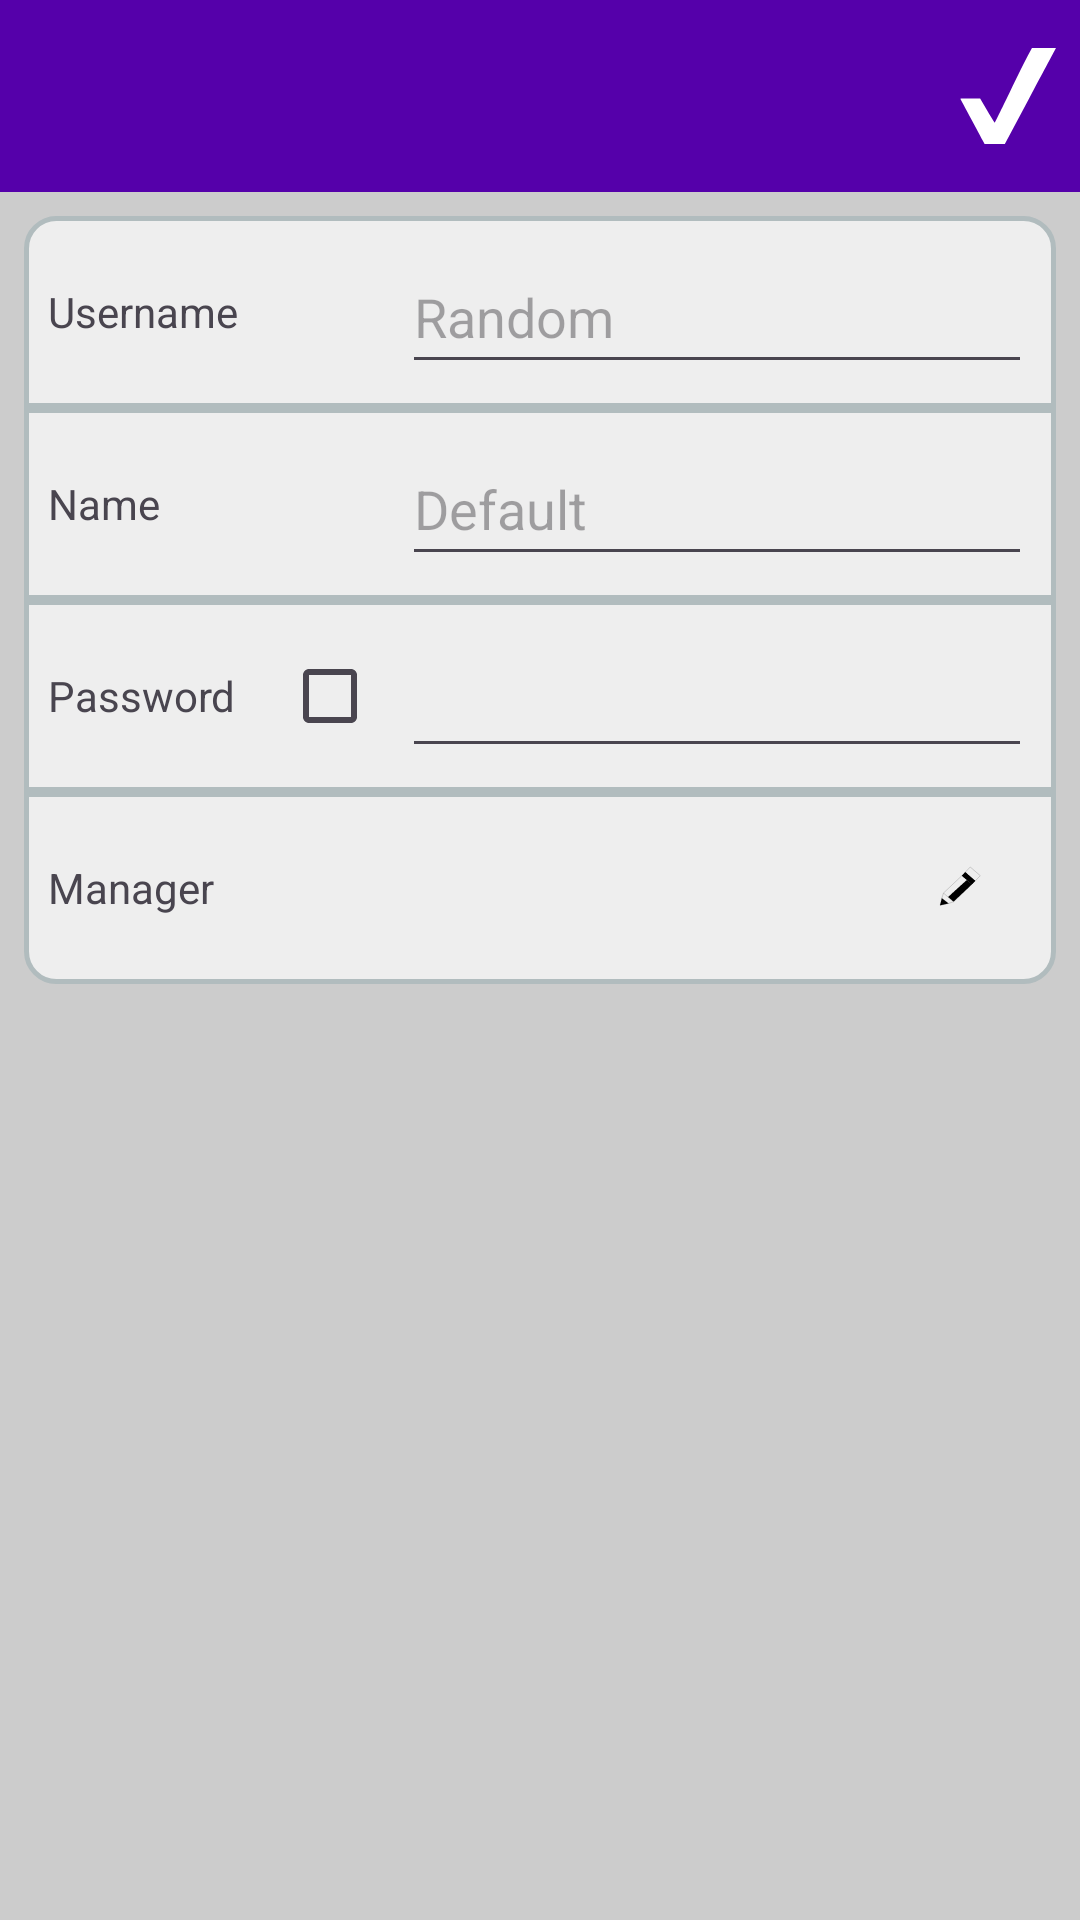

Icon click points for this 1080 x 1920 phone screenshot, format (x=x, y=y):
Confirm: (x=1008, y=96)
